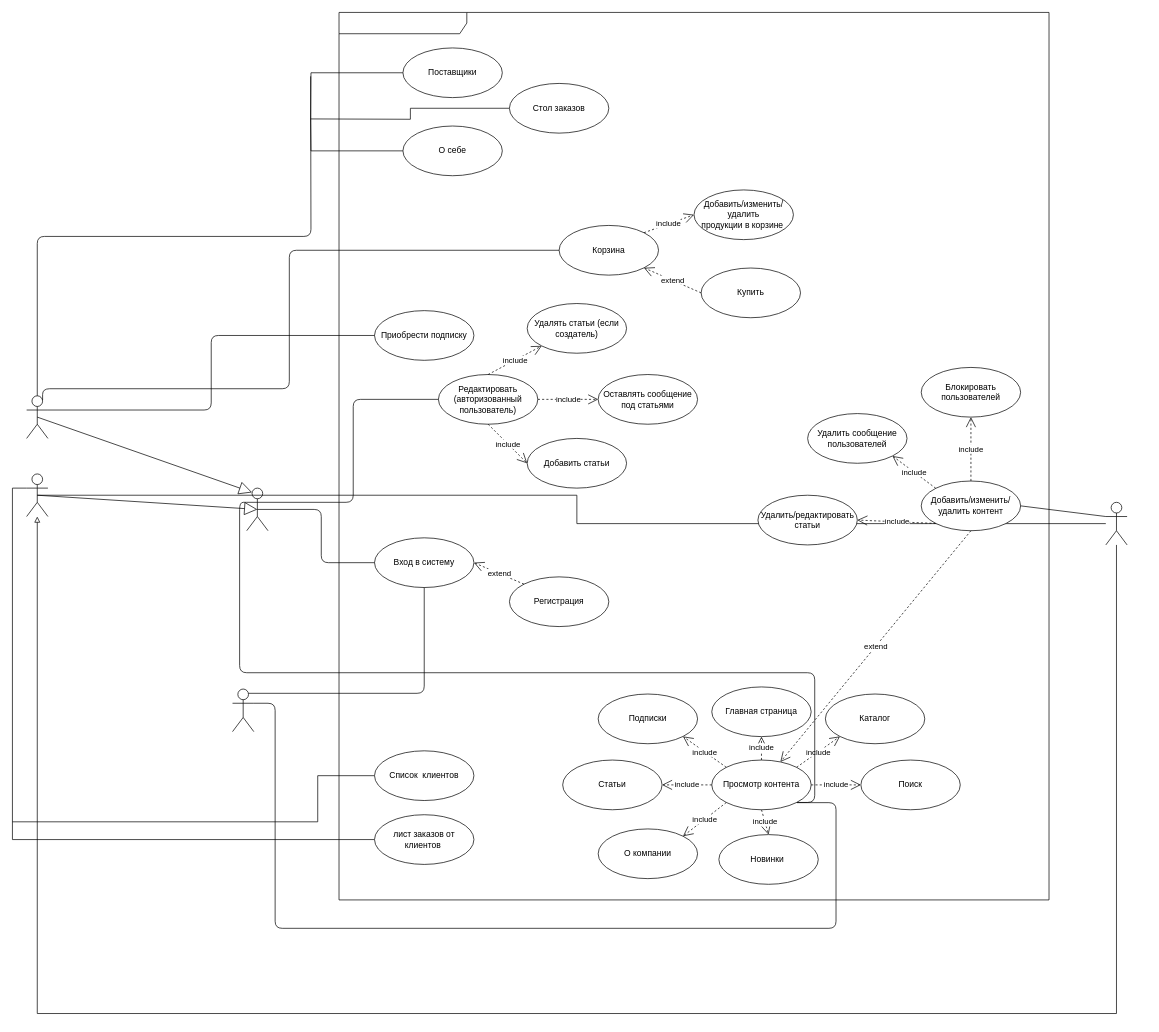
This 1159x1032 diagram has some shape labels left out. The centre of each missing label's shape, as x and y in pixels:
"Авторизованный пользователь" goes at pixel 257 509.
"Администратор" goes at pixel 1116 523.
"Гость" goes at pixel 243 710.
"Клиент" goes at pixel 37 416.
"Поставшик" goes at pixel 37 495.
"Продажа колбасных изделий" goes at pixel 693 456.
